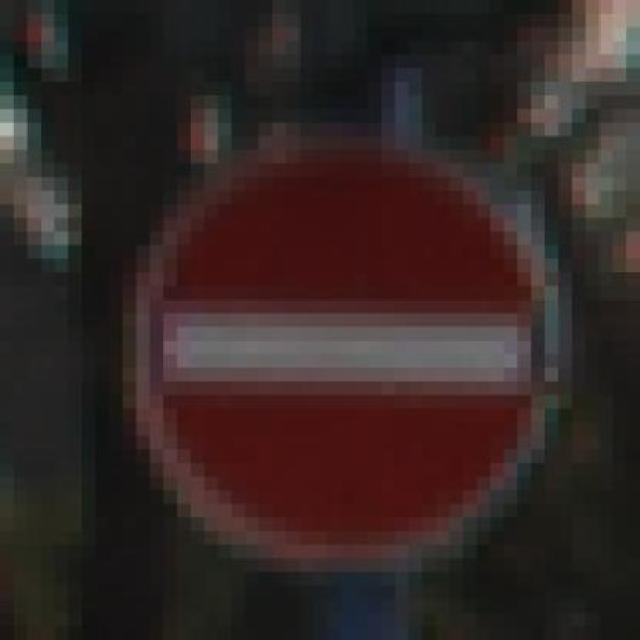No Entry: (82, 109, 586, 586)
